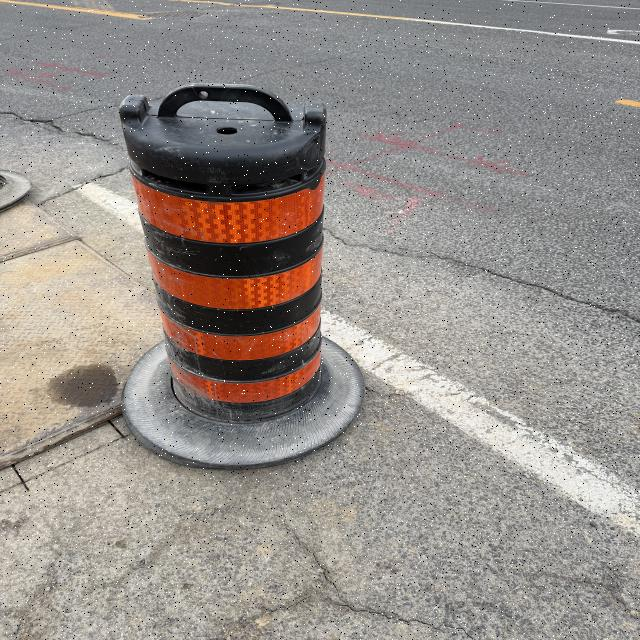Teraffic Barrel: (120, 84, 364, 468)
